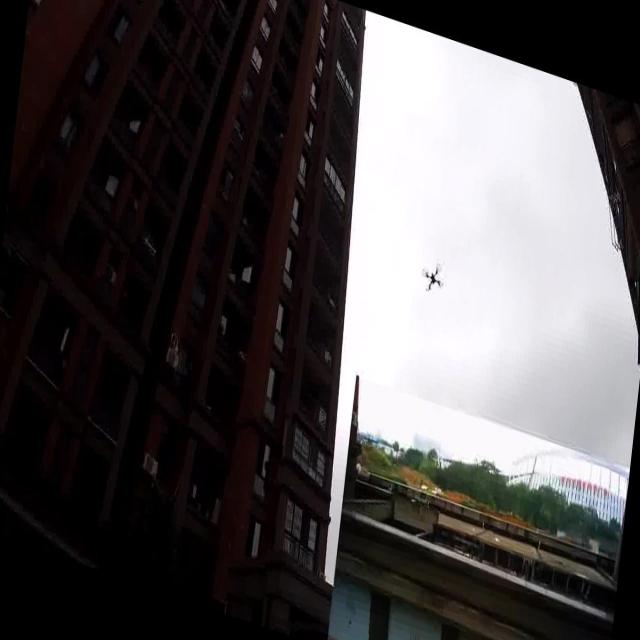drone: (415, 256, 446, 300)
